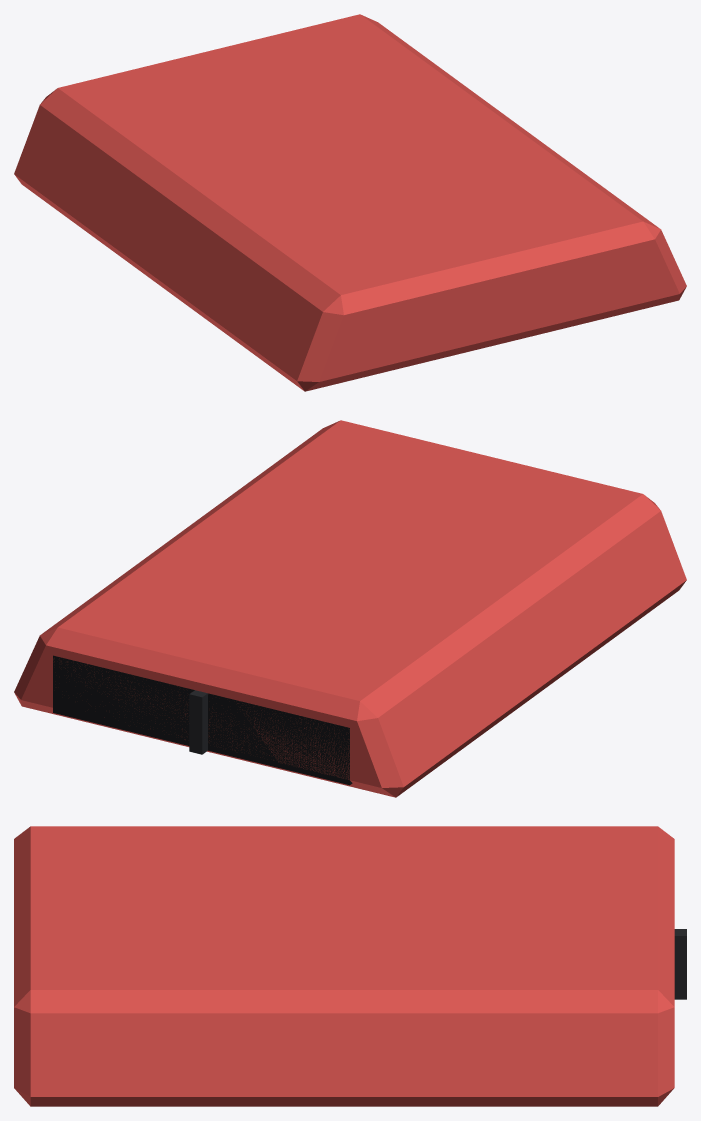
File: hood_scoop.glb
The picture shows the model from 3 angles, top to bottom: view 1: azimuth 30°, elevation 25°; view 2: azimuth 150°, elevation 25°; view 3: azimuth 270°, elevation 25°; orthographic projection. The views are drawn at different scales.
Visible parts, largest first — view 1: hood_scoop__mesh; view 2: hood_scoop__mesh; view 3: hood_scoop__mesh.
Boxes of the visible parts, x1,y1,x2,y2 form: hood_scoop__mesh: [14, 14, 686, 391]; hood_scoop__mesh: [14, 420, 686, 797]; hood_scoop__mesh: [14, 826, 686, 1106].
Size of the model in its own units: 0.6042 by 0.13 by 0.815.
2 materials, 1 textured.
